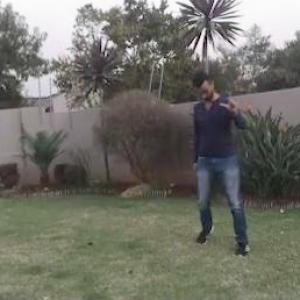land_hand: (220, 87, 245, 115)
